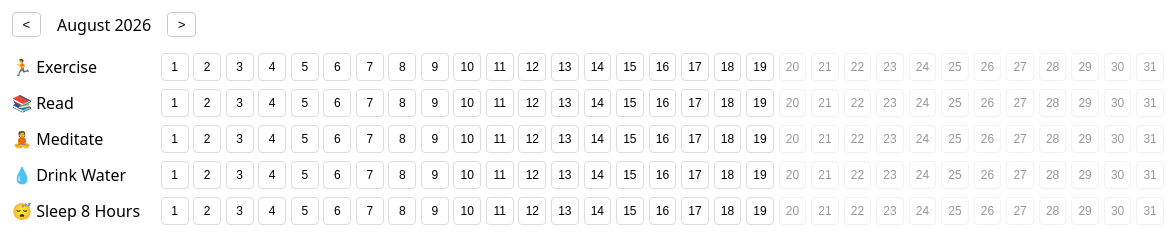
Test case: MonthGrid › clicking Next advances the header to the next month
This screenshot has width=1176, height=242.
Click the button named "Next month".
click(182, 24)  # box [167,12,196,37]
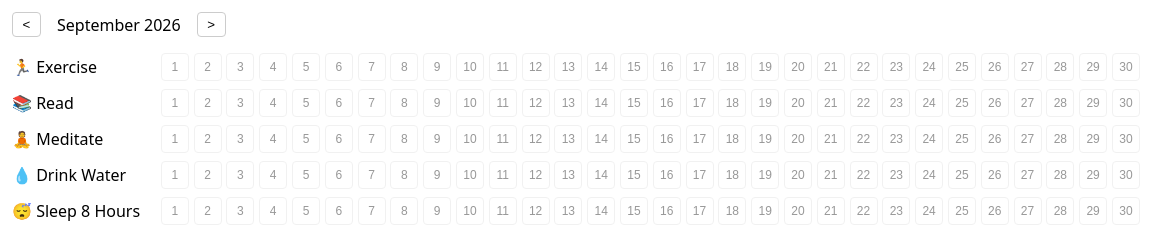
Expected: the text "September 2026" is shown, [57,14,181,36]
